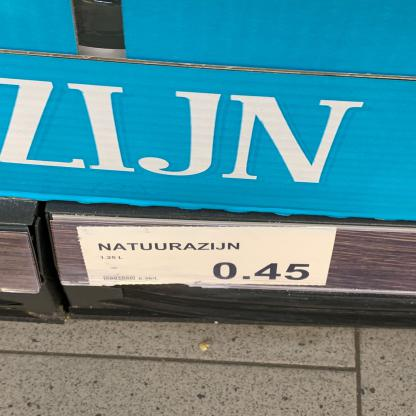prtg: (77, 228, 338, 288)
